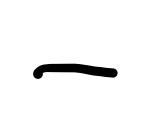minus: (33, 63, 118, 79)
